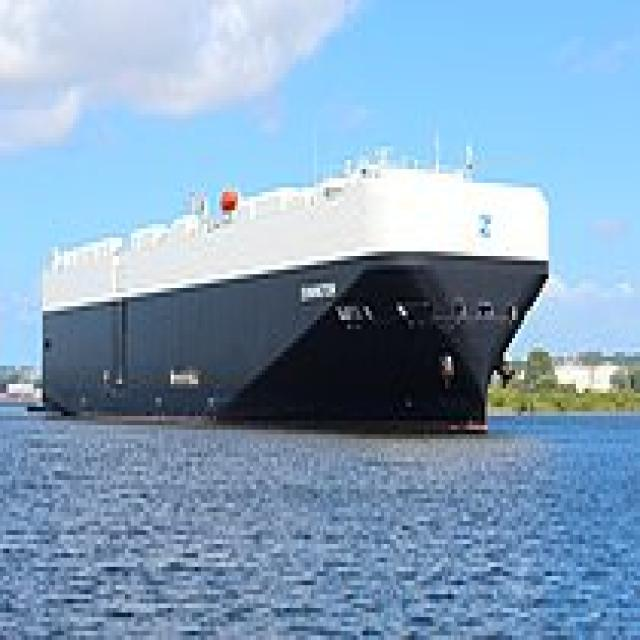Carrier: (34, 128, 548, 430)
